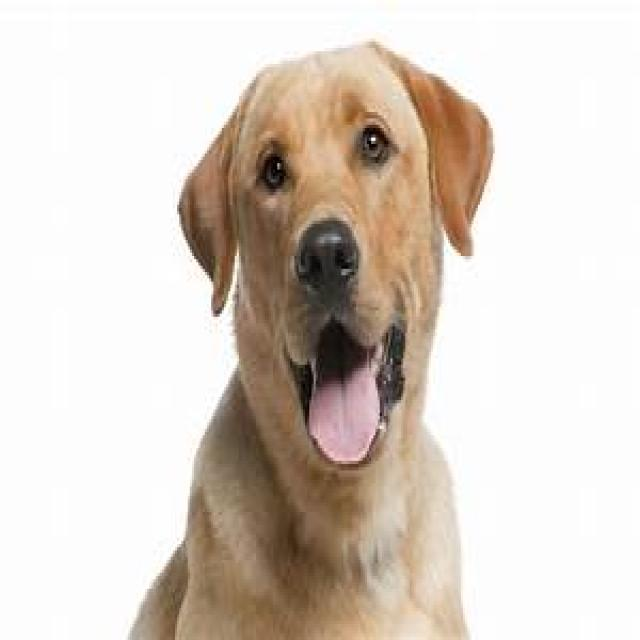dog: (126, 42, 495, 640)
